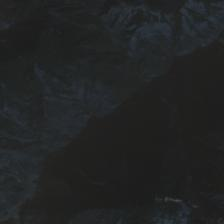landslides: (34, 173, 70, 196), (0, 163, 17, 175), (85, 115, 97, 129), (32, 157, 41, 171)
